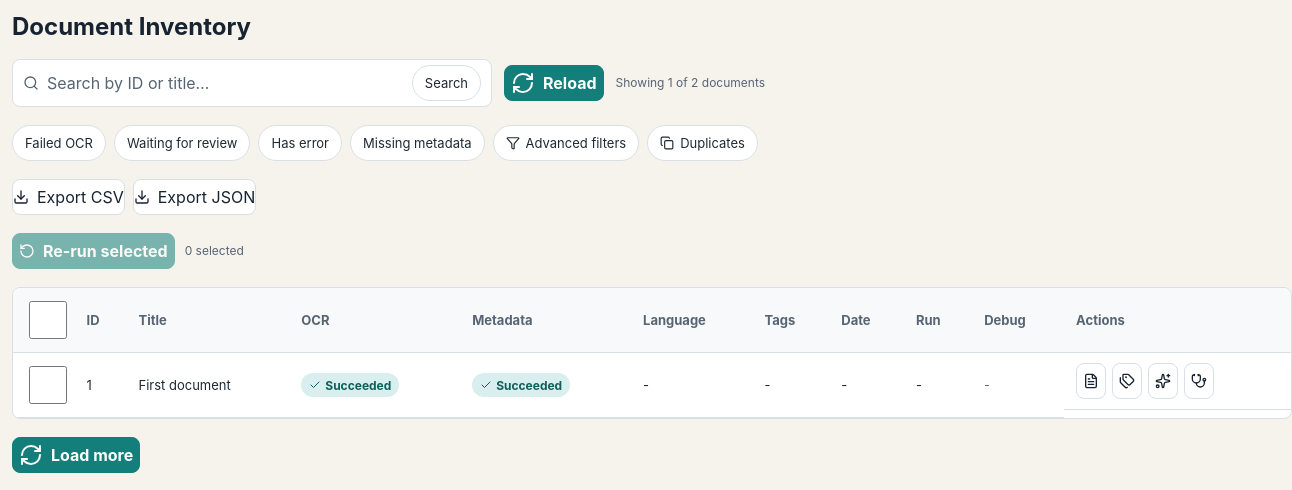
<Inventory> selection query context › clears selected rows, count, and header state when a filter changes
Click the checkbox named "Select document #1" at (48, 385), box [29, 366, 67, 404]
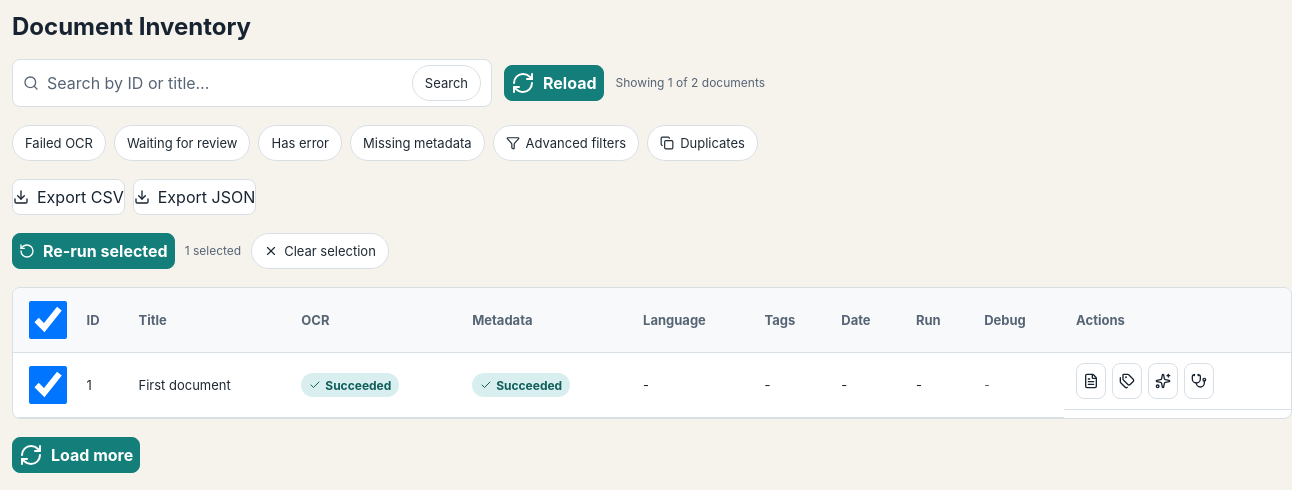
Check: the checkbox named "Select document #1" is checked, box [29, 366, 67, 404]
Check: the checkbox named "Select all on this page" is checked, box [29, 301, 67, 339]
Click the button "Failed OCR" at (59, 143), box [12, 125, 106, 161]
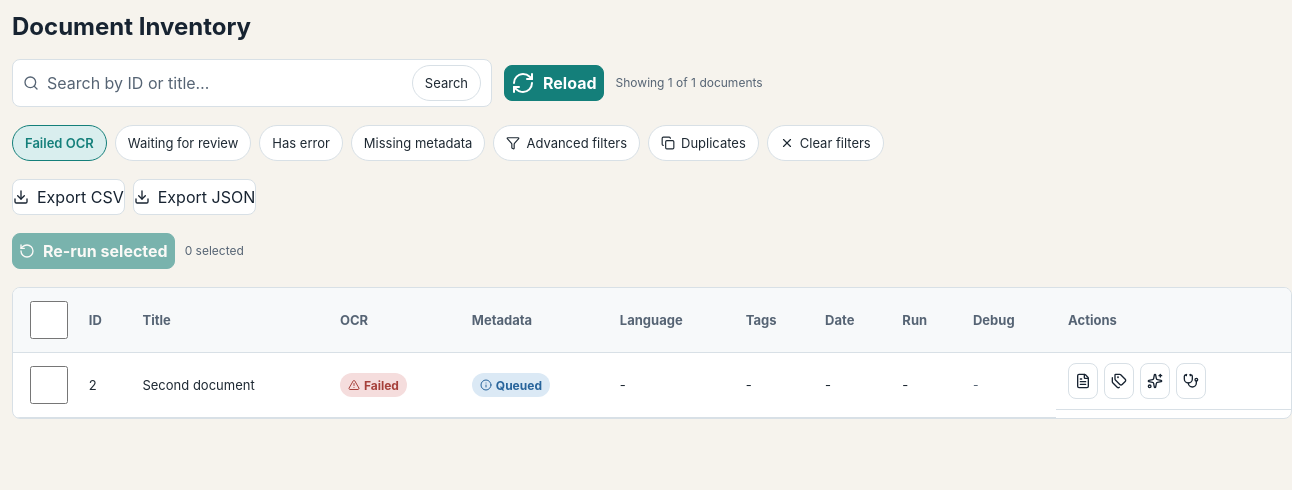
Check: the checkbox named "Select all on this page" is not checked, box [29, 301, 69, 339]
Check: the button "Re-run selected" is disabled, box [12, 233, 175, 269]
Check: the button "Load more" is gone
